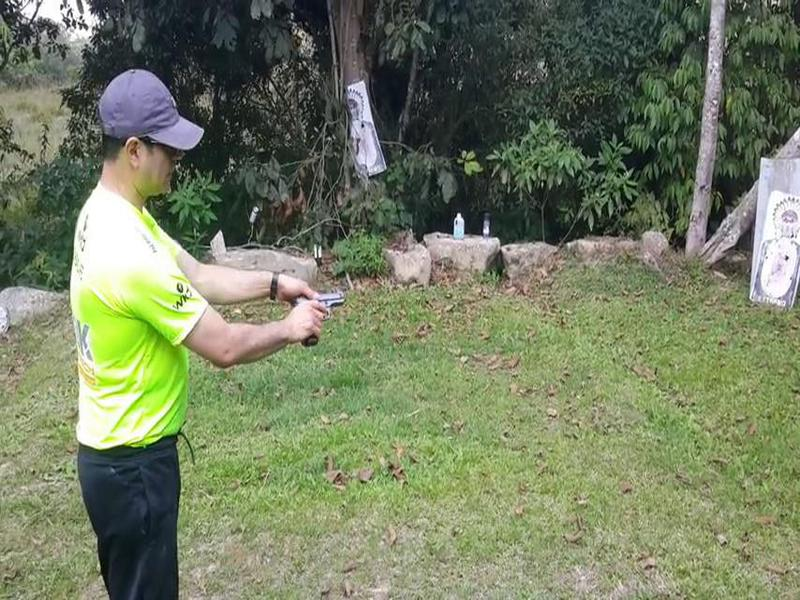Pistola: (287, 284, 356, 352)
